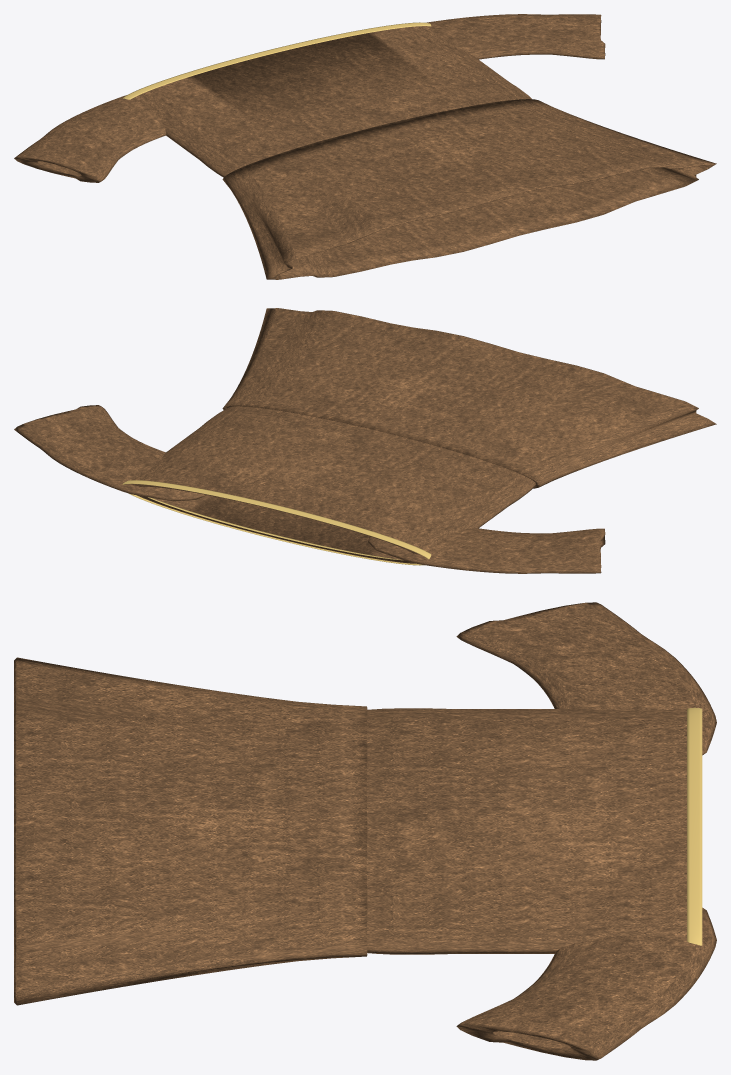
File: abaya2.fbx
3 views of the same model, one above another, from view 1: azimuth 30°, elevation 25°; view 2: azimuth 150°, elevation 25°; view 3: azimuth 270°, elevation 25° (orthographic). The views are drawn at different scales.
Parts seen in each view (by area): view 1: abaya2; view 2: abaya2; view 3: abaya2.
Part boxes in pixels (bbox=[...]): abaya2: bbox=[14, 14, 716, 279]; abaya2: bbox=[14, 308, 716, 573]; abaya2: bbox=[14, 602, 716, 1060].
Size of the model in its own units: 1.62 by 0.1207 by 1.06.
Materials: 2 (1 with a texture image).
